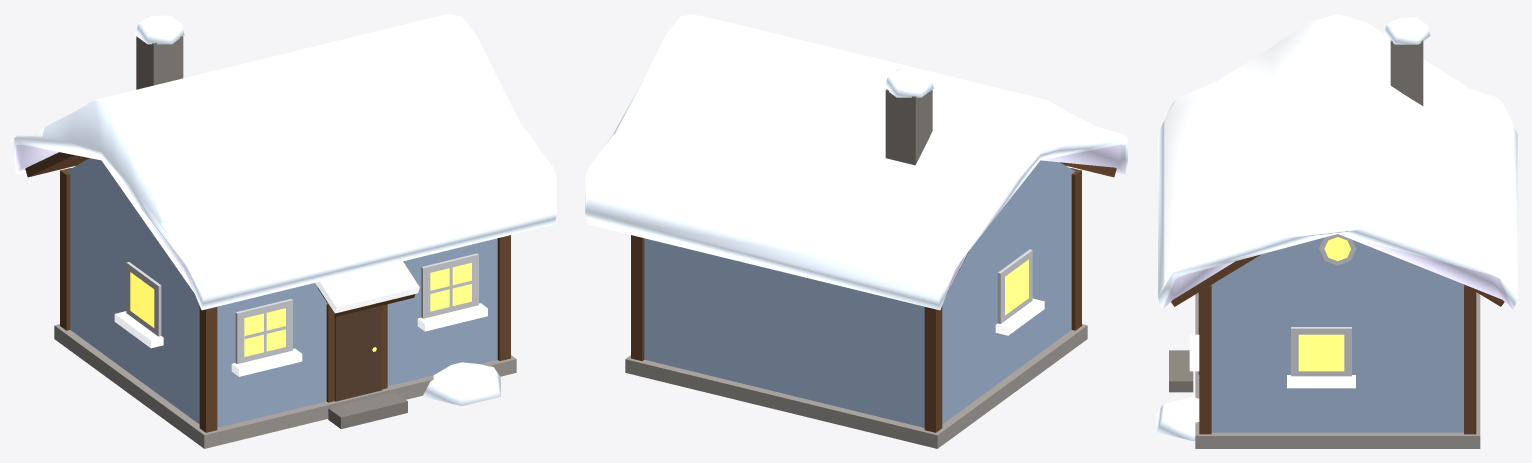
File: snow-house-b.glb
3 renders of one model, left to right at view 1: azimuth 30°, elevation 25°; view 2: azimuth 150°, elevation 25°; view 3: azimuth 270°, elevation 25°, orthographic. The views are drawn at different scales.
Visible parts, largest first — view 1: snow-house-b; view 2: snow-house-b; view 3: snow-house-b.
Boxes of the visible parts, x1,y1,x2,y2 form: snow-house-b: [14, 14, 556, 448]; snow-house-b: [585, 14, 1127, 448]; snow-house-b: [1156, 14, 1517, 448].
Bounding box in the file's own units: 9.9 × 8.55 × 8.88.
